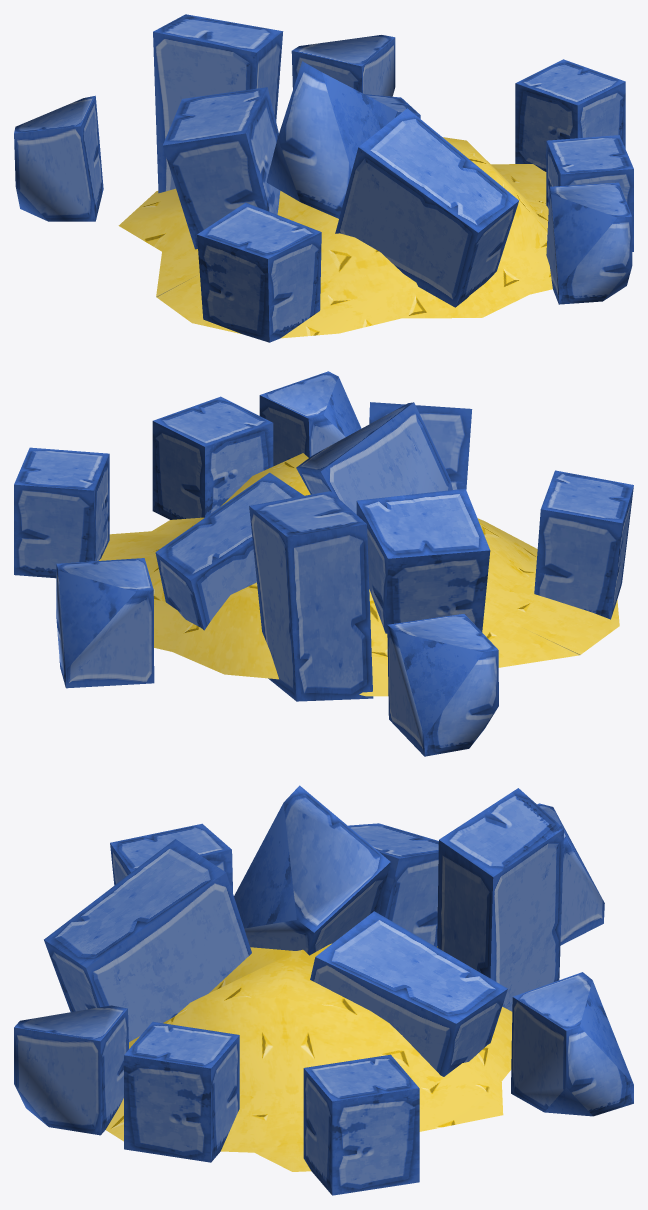
The model's file is Toon_Rubbish_01.fbx.
3 renders of one model, top to bottom at view 1: azimuth 30°, elevation 25°; view 2: azimuth 150°, elevation 25°; view 3: azimuth 270°, elevation 25°, orthographic. The views are drawn at different scales.
Parts seen in each view (by area): view 1: Toon_Rubbish_01; view 2: Toon_Rubbish_01; view 3: Toon_Rubbish_01.
Boxes of the visible parts, left/top/right/bottom form: Toon_Rubbish_01: left=14, top=14, right=633, bottom=342; Toon_Rubbish_01: left=14, top=371, right=633, bottom=756; Toon_Rubbish_01: left=14, top=785, right=633, bottom=1195.
Size of the model in its own units: 8.09 by 3.13 by 7.34.
